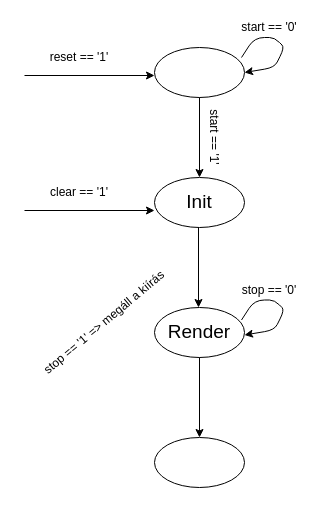
This 322x505 diagram has some shape labels left out. Here are the shapes that lost their labels. From the top down, the centre of each, then its label:
At (199,72): "Ready".
At (199,462): "Display".
